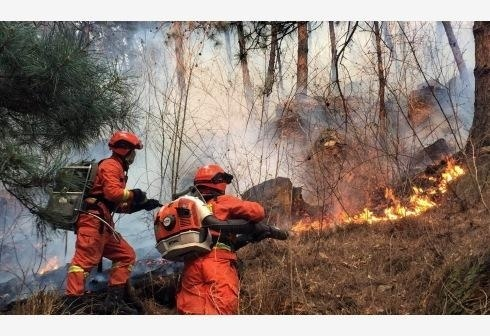fire: (297, 148, 467, 226)
